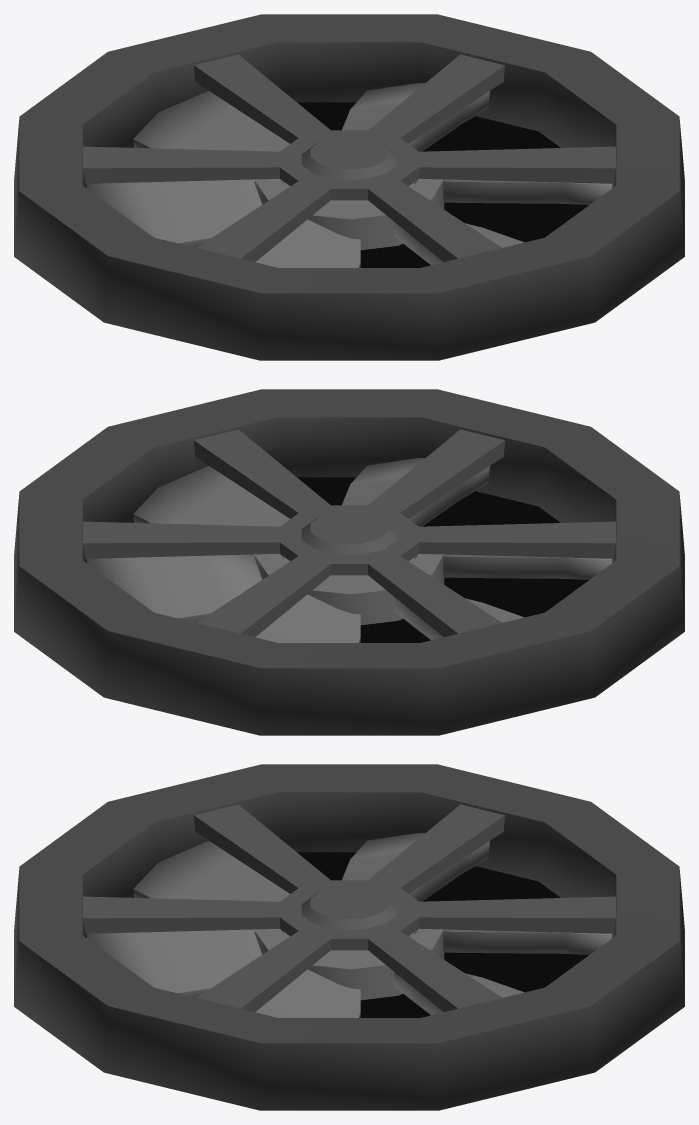
File: Scrubber.fbx
3 renders of one model, top to bottom at view 1: azimuth 30°, elevation 25°; view 2: azimuth 150°, elevation 25°; view 3: azimuth 270°, elevation 25°, orthographic.
Visible parts, largest first — view 1: AirScrubber, AirScrubberFans; view 2: AirScrubber, AirScrubberFans; view 3: AirScrubber, AirScrubberFans.
Boxes of the visible parts, x1=… form: AirScrubber: x1=14, y1=14, x2=684, y2=360; AirScrubberFans: x1=87, y1=83, x2=612, y2=267; AirScrubber: x1=14, y1=389, x2=684, y2=735; AirScrubberFans: x1=87, y1=458, x2=612, y2=642; AirScrubber: x1=14, y1=764, x2=684, y2=1110; AirScrubberFans: x1=87, y1=833, x2=612, y2=1017.
Size of the model in its own units: 0.6614 by 0.0757 by 0.6614.
